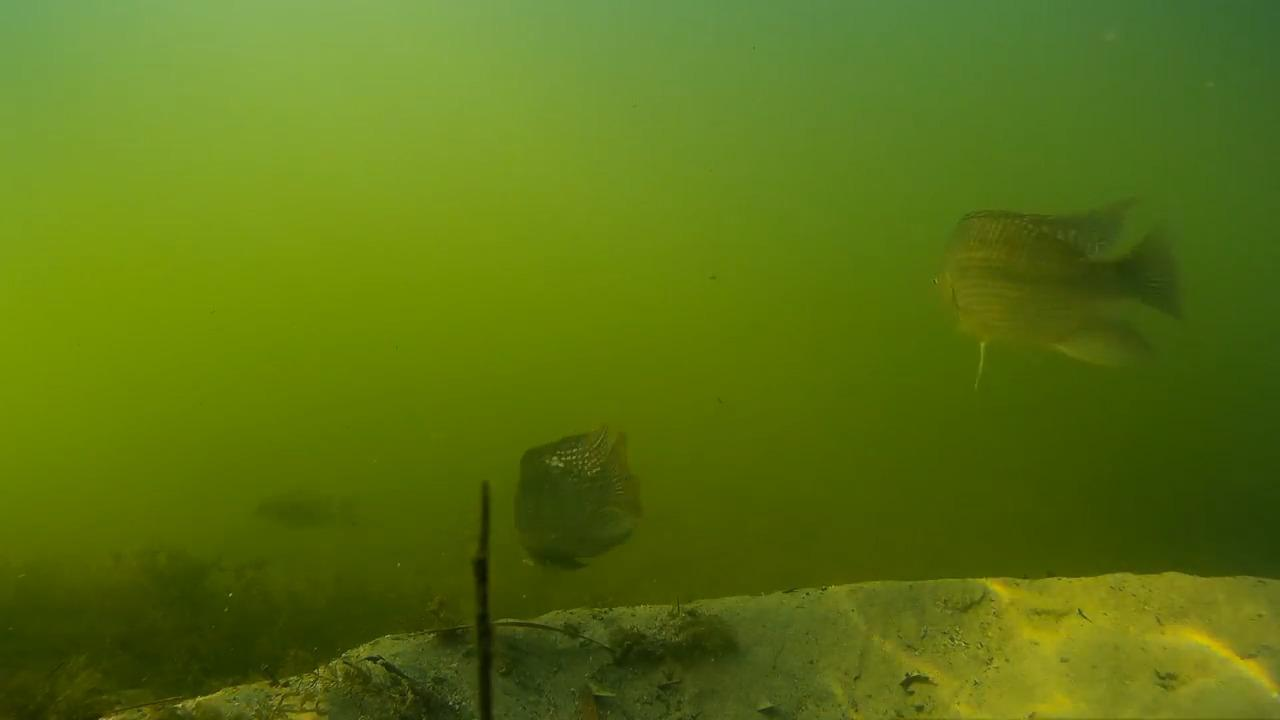Tilapia: (922, 198, 1193, 386), (504, 424, 647, 586), (252, 478, 393, 558)
